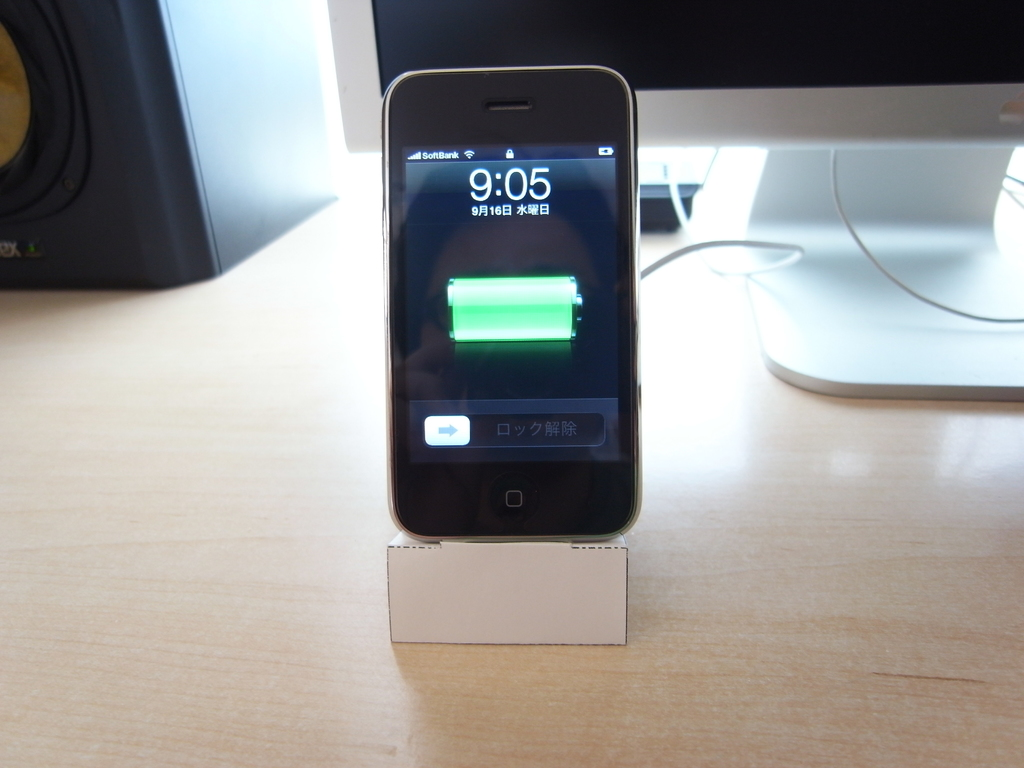Mobile-phone: (378, 63, 644, 543)
